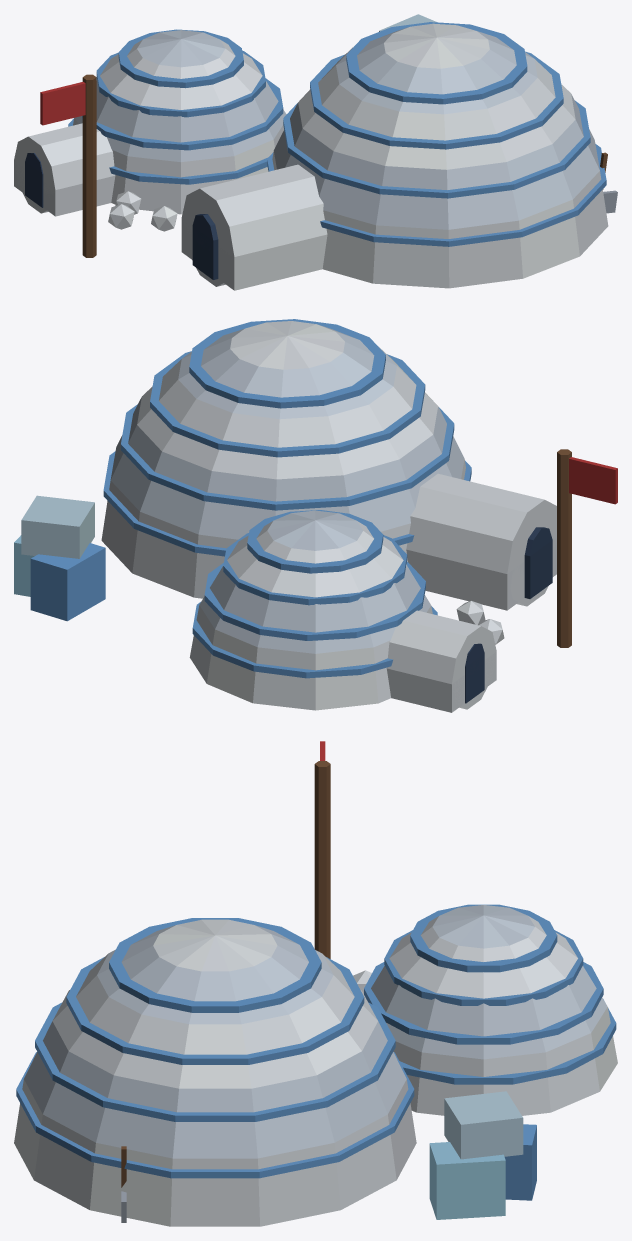
File: Decor_IcePalace_Igloo.fbx
3 renders of one model, top to bottom at view 1: azimuth 30°, elevation 25°; view 2: azimuth 150°, elevation 25°; view 3: azimuth 270°, elevation 25°, orthographic. The views are drawn at different scales.
Visible parts, largest first — view 1: Igloo_Body; view 2: Igloo_Body; view 3: Igloo_Body.
Boxes of the visible parts, <box> form: Igloo_Body: <box>14,14,617,290</box>; Igloo_Body: <box>14,319,617,712</box>; Igloo_Body: <box>14,741,617,1226</box>.
Bounding box in the file's own units: 24.9 × 9 × 22.5.
